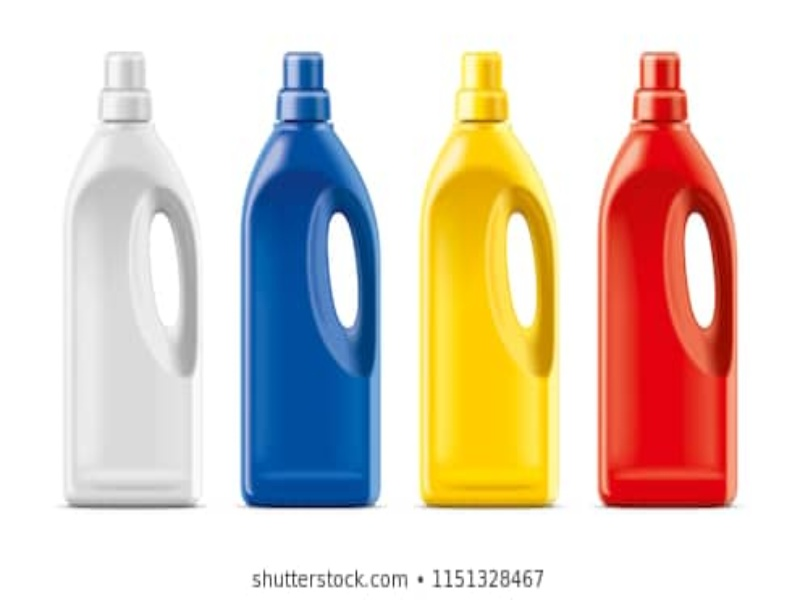detergent-bottle: (387, 45, 570, 517), (229, 36, 394, 522), (53, 45, 221, 511), (587, 48, 752, 513)
